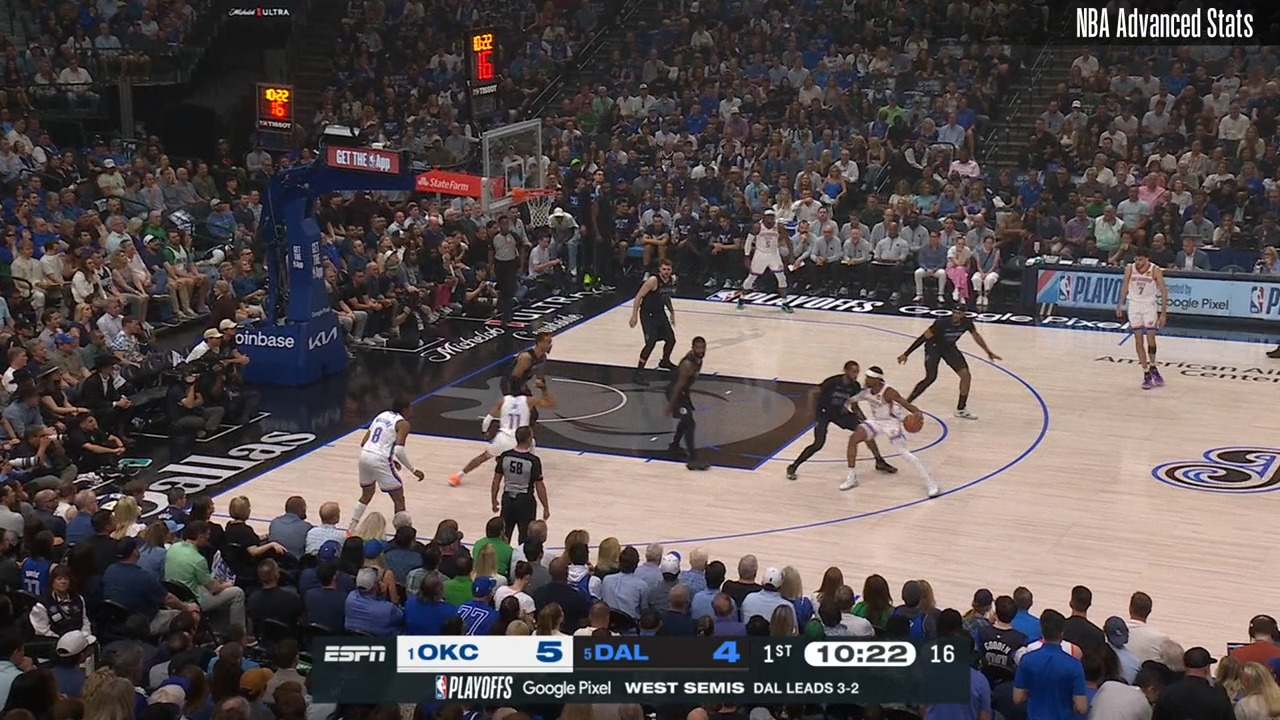basketball: (900, 406, 924, 434)
